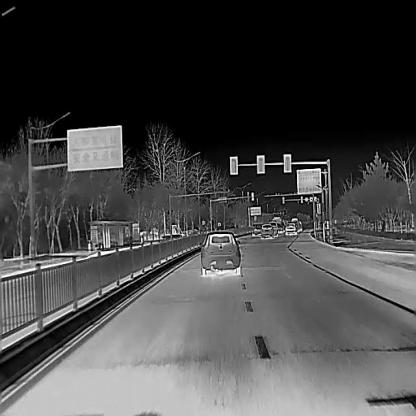car: (198, 232, 242, 276), (260, 223, 274, 237), (285, 221, 296, 236), (267, 220, 277, 235), (251, 222, 261, 236)
truck: (270, 216, 283, 232), (290, 217, 300, 232)
